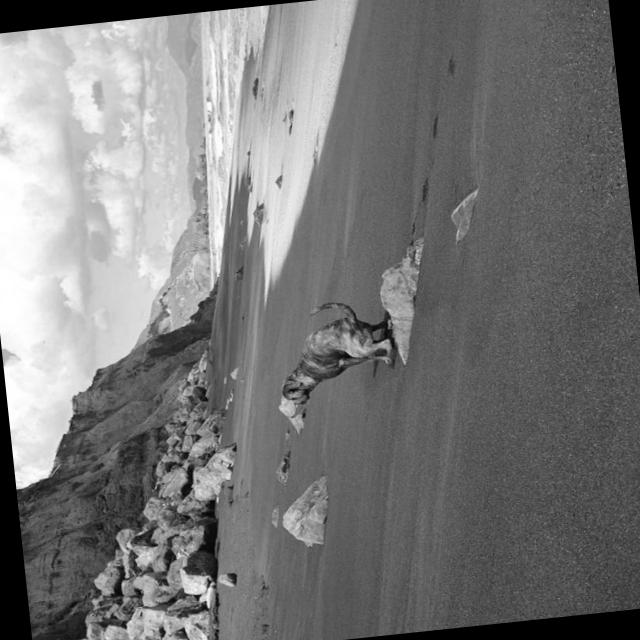squatting: (263, 290, 409, 410)
